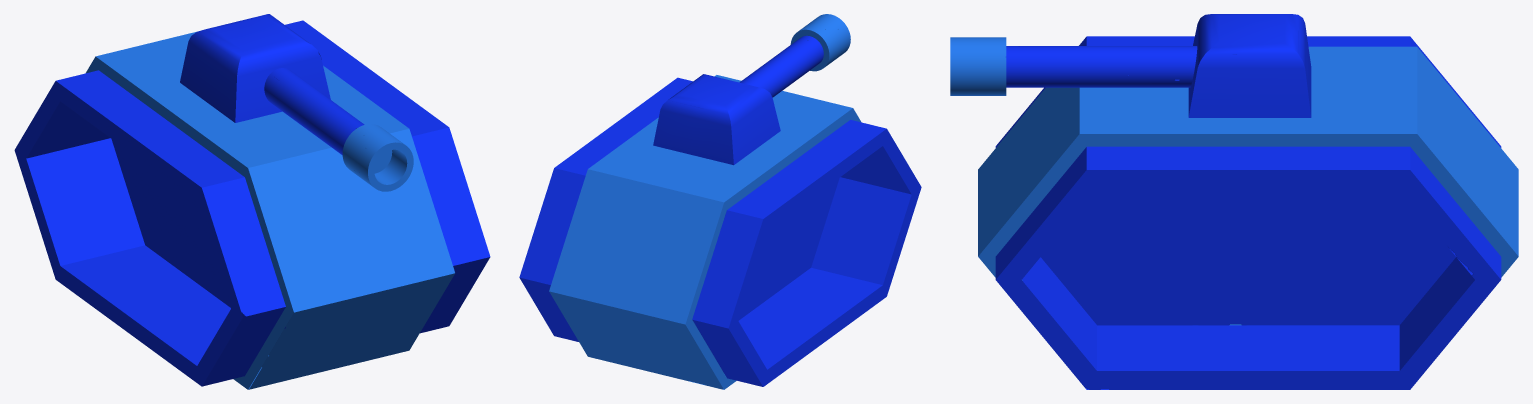
The model's file is Tank.fbx.
3 renders of one model, left to right at view 1: azimuth 30°, elevation 25°; view 2: azimuth 150°, elevation 25°; view 3: azimuth 270°, elevation 25°, orthographic. The views are drawn at different scales.
Visible parts, largest first — view 1: Cube, Cube.001; view 2: Cube, Cube.001; view 3: Cube, Cube.001.
Boxes of the visible parts, bbox=[...] form: Cube: bbox=[14, 20, 490, 389]; Cube.001: bbox=[180, 14, 413, 191]; Cube: bbox=[519, 75, 921, 389]; Cube.001: bbox=[653, 14, 850, 165]; Cube: bbox=[978, 36, 1518, 389]; Cube.001: bbox=[950, 14, 1311, 117].
Bounding box in the file's own units: 233 × 251 × 420.
1 material, 1 textured.
